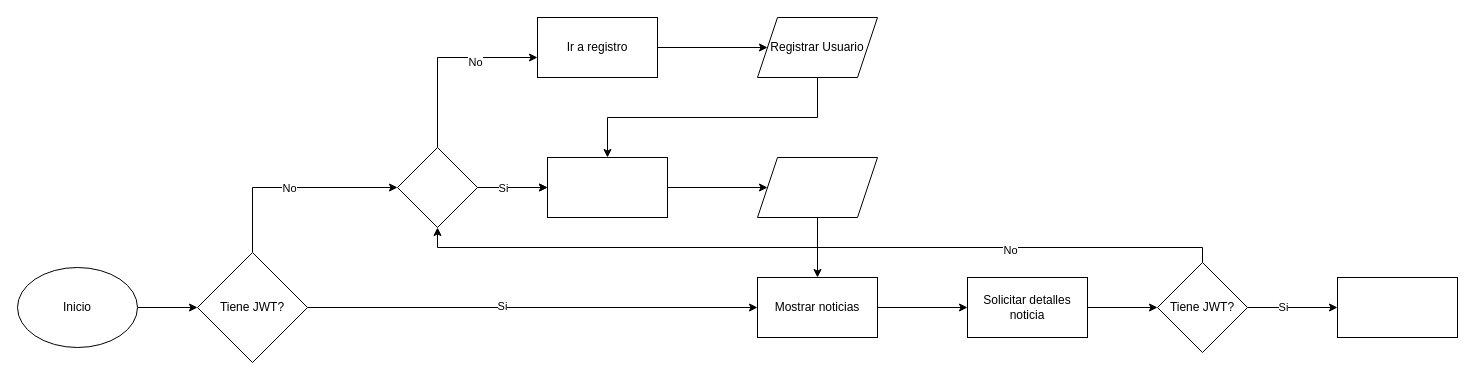
The diagram is 1475 pixels wide and 380 high, and some of its shapes have lost their labels. Here are the shapes that lost their labels. From the top down, the centre of each, then its label:
At [437,187]: "Tiene usuario?".
At [607,187]: "Ir a Login".
At [817,187]: "Generar JWT".
At [1397,307]: "Ver detalles noticia".
